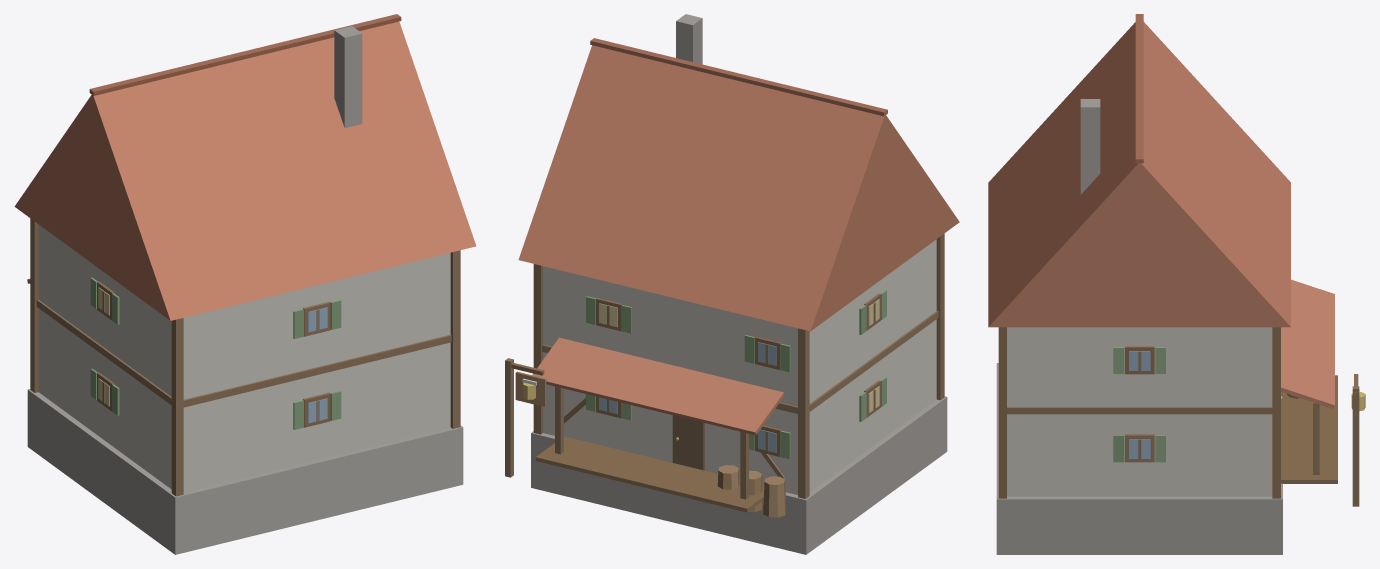
Rendered from tavern.glb.
3 views of the same model, side by side, from view 1: azimuth 30°, elevation 25°; view 2: azimuth 150°, elevation 25°; view 3: azimuth 270°, elevation 25° (orthographic). The views are drawn at different scales.
Visible parts, largest first — view 1: tavern2; view 2: tavern2; view 3: tavern2.
Boxes of the visible parts, x1,y1,x2,y2 form: tavern2: (14, 14, 476, 554); tavern2: (505, 14, 959, 554); tavern2: (988, 14, 1365, 554).
Size of the model in its own units: 9.55 by 12.87 by 10.46.
